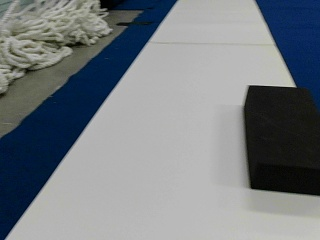block: (244, 85, 318, 195)
